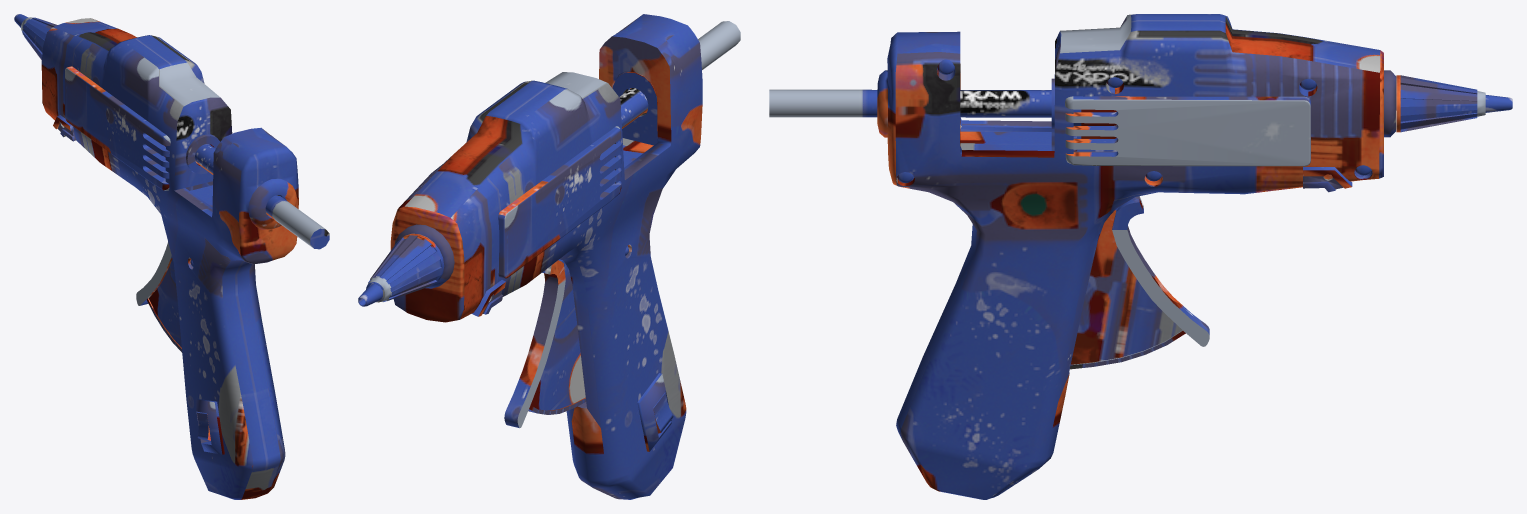
The model's file is glue_gun.obj.
The picture shows the model from 3 angles, left to right: view 1: azimuth 30°, elevation 25°; view 2: azimuth 150°, elevation 25°; view 3: azimuth 270°, elevation 25°; orthographic projection. The views are drawn at different scales.
Visible parts, largest first — view 1: glue_gun; view 2: glue_gun; view 3: glue_gun.
Boxes of the visible parts, bbox=[...] form: glue_gun: bbox=[14, 14, 329, 499]; glue_gun: bbox=[358, 14, 740, 499]; glue_gun: bbox=[769, 14, 1512, 499].
Bounding box in the file's own units: 0.1357 × 0.6987 × 1.
